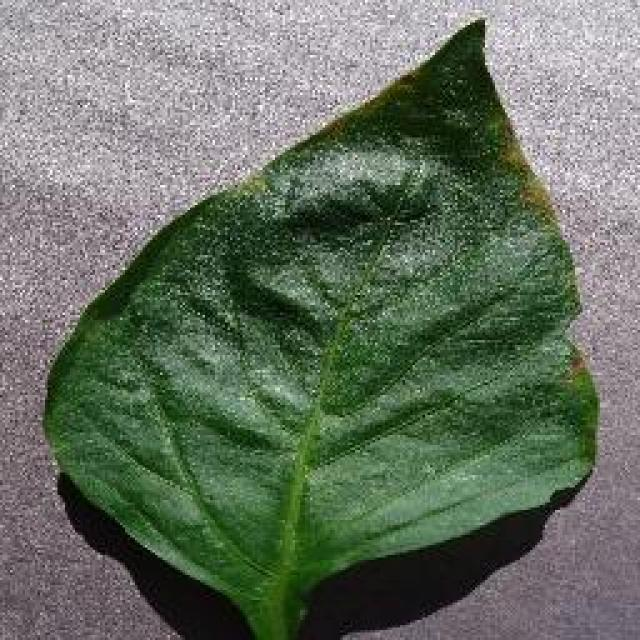Chilli_Healthy: (40, 15, 600, 637)
